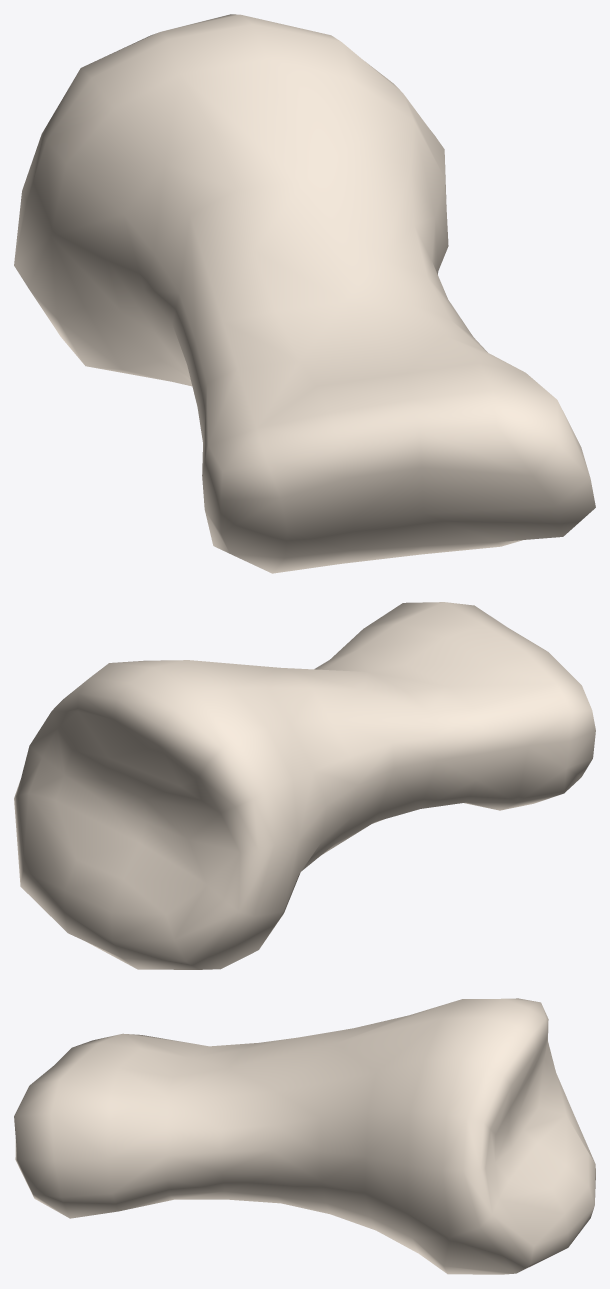
Rendered from right_toe_3_middle.glb.
3 renders of one model, top to bottom at view 1: azimuth 30°, elevation 25°; view 2: azimuth 150°, elevation 25°; view 3: azimuth 270°, elevation 25°, orthographic. The views are drawn at different scales.
Parts seen in each view (by area): view 1: Middle phalanx of third finger of foot.r; view 2: Middle phalanx of third finger of foot.r; view 3: Middle phalanx of third finger of foot.r.
Part boxes in pixels (x1,y1,x2,y2): Middle phalanx of third finger of foot.r: [14, 14, 595, 573]; Middle phalanx of third finger of foot.r: [14, 602, 595, 969]; Middle phalanx of third finger of foot.r: [14, 998, 595, 1274].
Bounding box in the file's own units: 0.00874 × 0.0058 × 0.0132.
